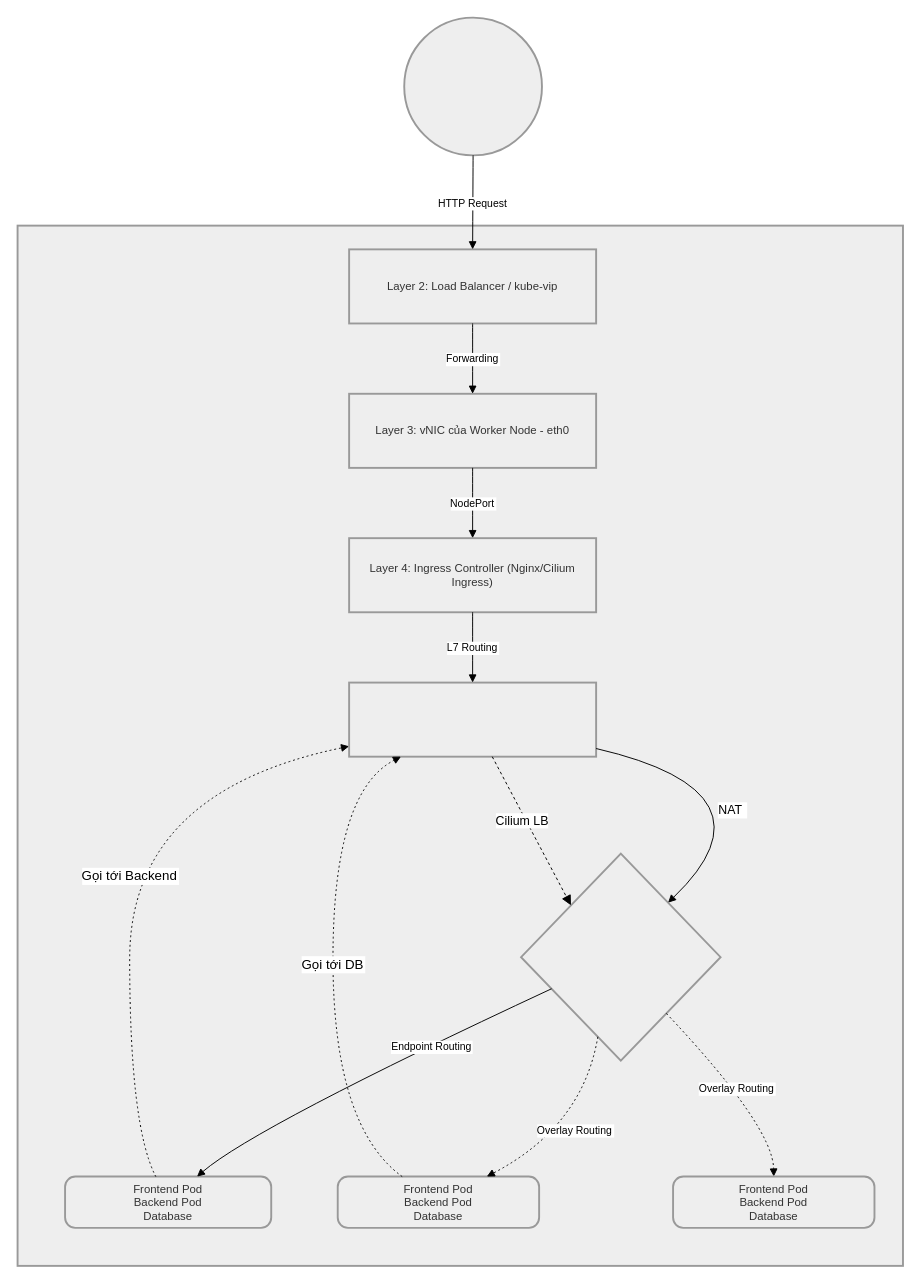
Image size: 920x1283. Some labels were removed from this diagram. Each missing label, with the centre of its shape:
"Khách hàng / Web" goes at (x=472, y=86).
"Layer 5: Service (Cluster IP)" goes at (x=472, y=719).
"Layer 6: Cilium CNI (Interception L3/L4)" goes at (x=620, y=956).
